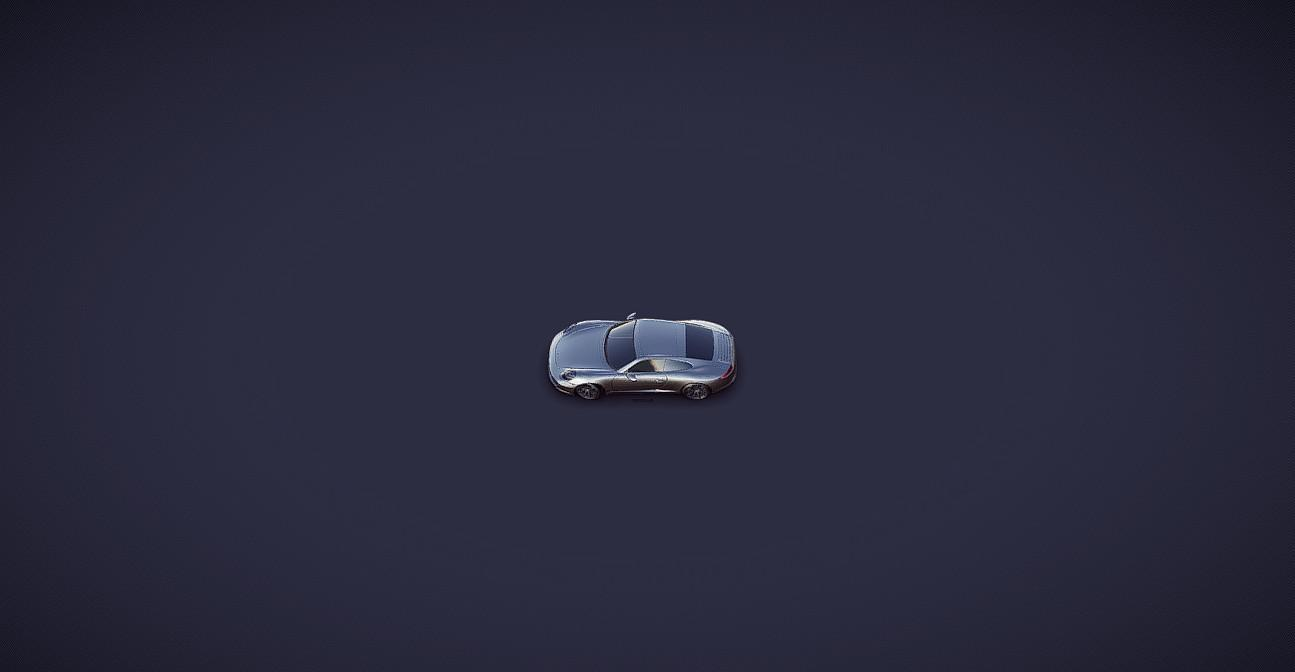Car: (546, 311, 737, 401)
